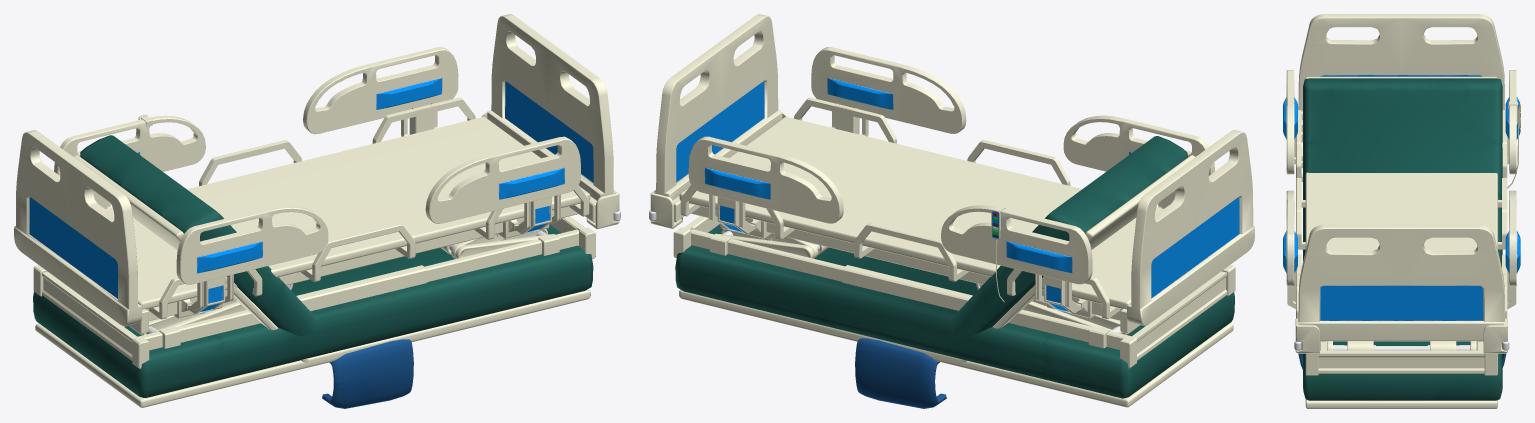
File: Bed_Edit 1.fbx
3 views of the same model, side by side, from view 1: azimuth 30°, elevation 25°; view 2: azimuth 150°, elevation 25°; view 3: azimuth 270°, elevation 25° (orthographic). The views are drawn at different scales.
Parts seen in each view (by area): view 1: Frame, Matres 0Deg, Matres 45Deg, Blanket; view 2: Frame, Matres 45Deg, Matres 0Deg, Blanket; view 3: Frame, Matres 45Deg, Matres 0Deg.
Part boxes in pixels (x1,y1,x2,y2): Frame: (14,14,620,368); Matres 0Deg: (33,224,593,407); Matres 45Deg: (74,135,592,363); Blanket: (322,339,413,408); Frame: (649,14,1254,368); Matres 45Deg: (676,136,1195,364); Matres 0Deg: (675,224,1234,407); Blanket: (855,338,946,408); Frame: (1283,14,1520,375); Matres 45Deg: (1303,76,1502,408); Matres 0Deg: (1303,364,1502,408).
Size of the model in its own units: 226 by 115 by 104.
